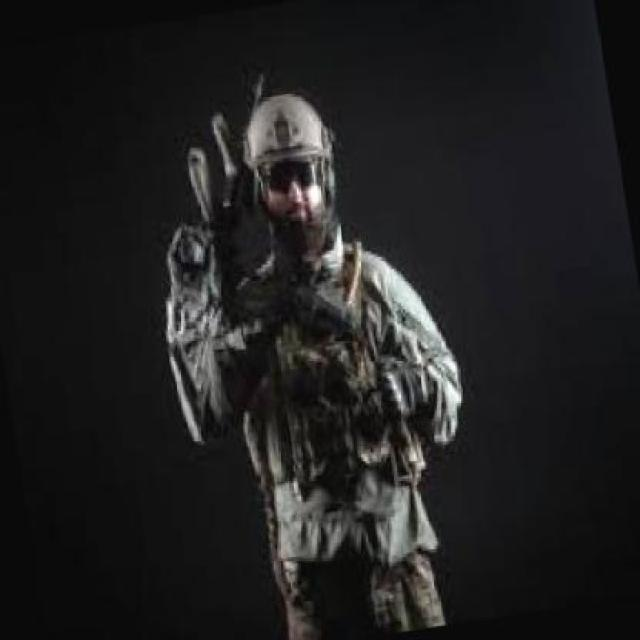MIL_Pax: (128, 74, 500, 638)
